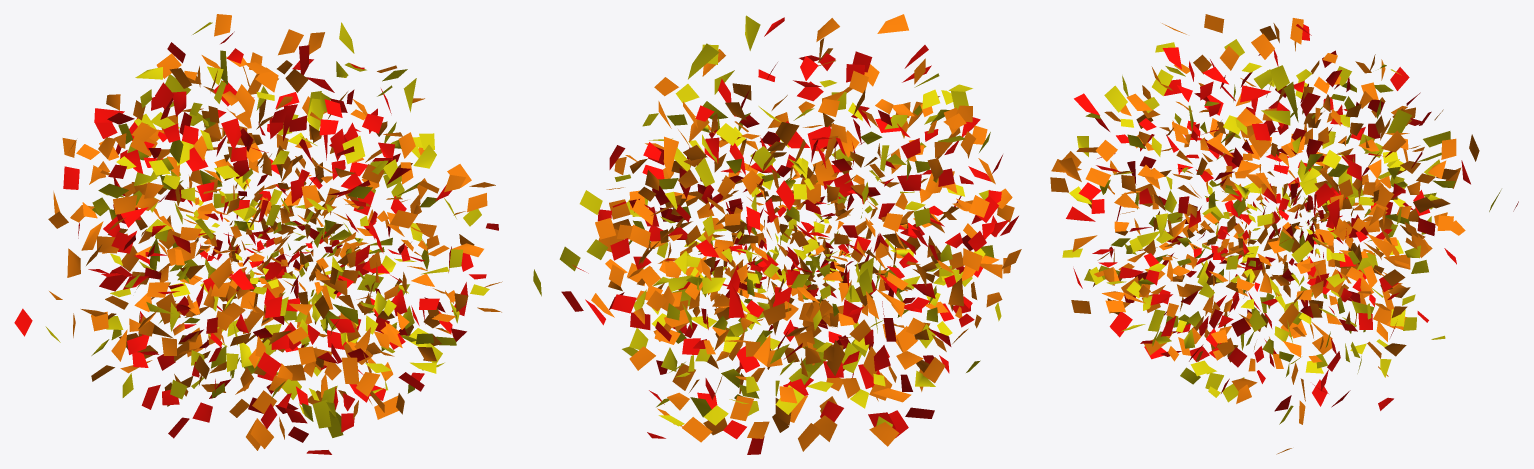
File: leafsDense4.fbx
3 views of the same model, side by side, from view 1: azimuth 30°, elevation 25°; view 2: azimuth 150°, elevation 25°; view 3: azimuth 270°, elevation 25° (orthographic). The views are drawn at different scales.
Parts seen in each view (by area): view 1: leafsDense4_LOD0; view 2: leafsDense4_LOD0; view 3: leafsDense4_LOD0.
Part boxes in pixels (x1,y1,x2,y2): leafsDense4_LOD0: [14, 14, 502, 454]; leafsDense4_LOD0: [533, 14, 1021, 454]; leafsDense4_LOD0: [1050, 14, 1518, 454].
Size of what is drawn, in the model's own units: 855 by 830 by 952.
